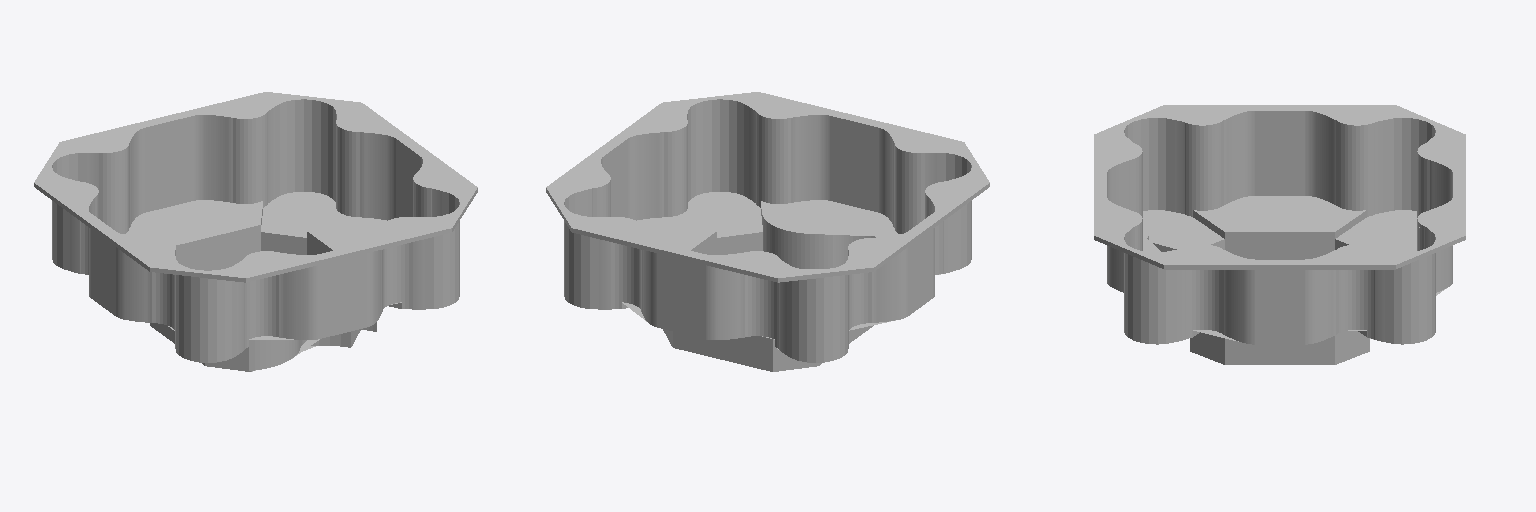
Rendered from EUREKA_BLANCA.obj.
3 views of the same model, side by side, from view 1: azimuth 30°, elevation 25°; view 2: azimuth 150°, elevation 25°; view 3: azimuth 270°, elevation 25° (orthographic).
Parts seen in each view (by area): view 1: Mesh1 Group1 Model; view 2: Mesh1 Group1 Model; view 3: Mesh1 Group1 Model.
Part boxes in pixels (x1,y1,x2,y2): Mesh1 Group1 Model: (34,92,477,371); Mesh1 Group1 Model: (546,92,989,371); Mesh1 Group1 Model: (1094,105,1465,364).
Size of the model in its own units: 242 by 100 by 238.